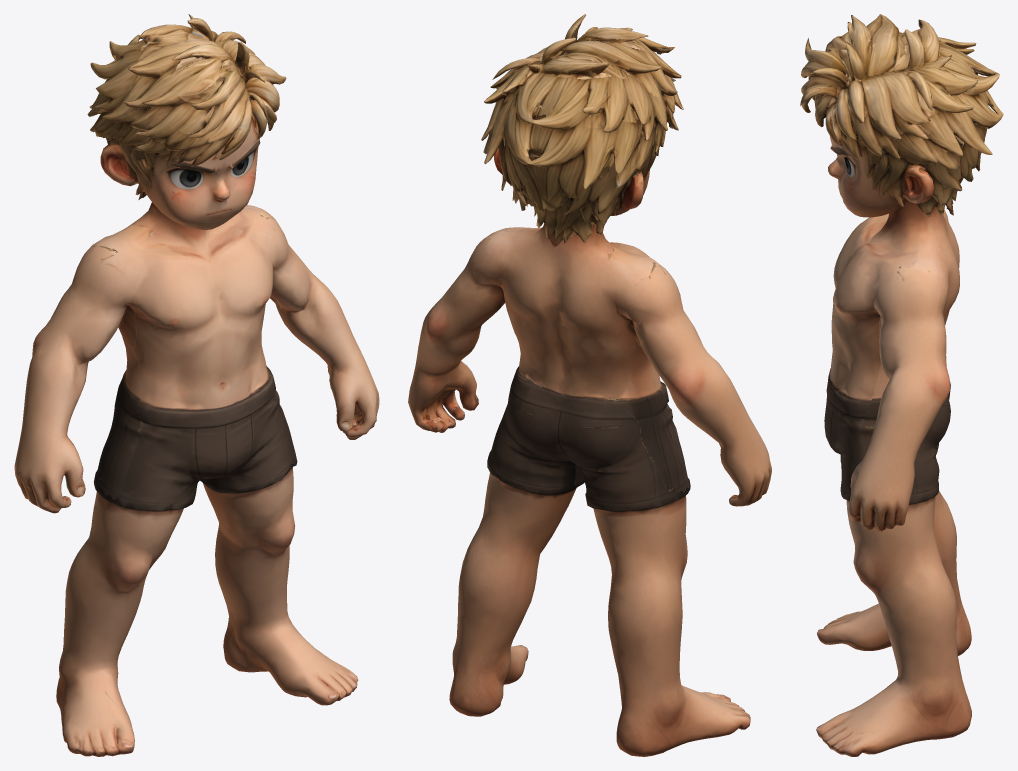
File: body.glb
3 views of the same model, side by side, from view 1: azimuth 30°, elevation 25°; view 2: azimuth 150°, elevation 25°; view 3: azimuth 270°, elevation 25° (orthographic). The views are drawn at different scales.
Visible parts, largest first — view 1: texture_mapping; view 2: texture_mapping; view 3: texture_mapping.
Boxes of the visible parts, box(x1,y1,x2,y2) form: texture_mapping: box(14, 14, 379, 756); texture_mapping: box(408, 14, 771, 756); texture_mapping: box(800, 14, 1003, 756).
Size of the model in its own units: 0.5442 by 0.9994 by 0.2771.
Materials: 1 (1 with a texture image).
